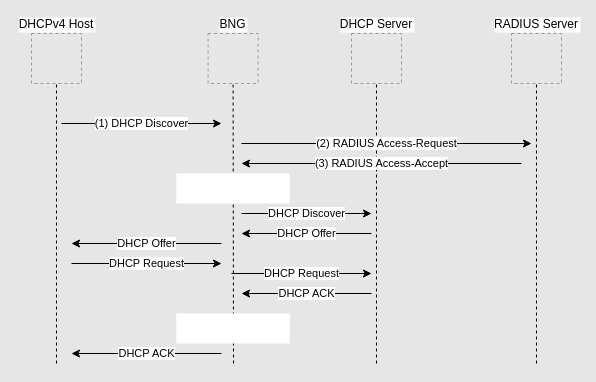
This 596x382 diagram has some shape labels left out. Grey dashed boxes stand in for pictures. The centre of each missing label's shape, as x and y in pixels:
(4) Process RADIUS attributes: (x=232, y=188)
(5) Subscriber-host created: (x=232, y=328)
